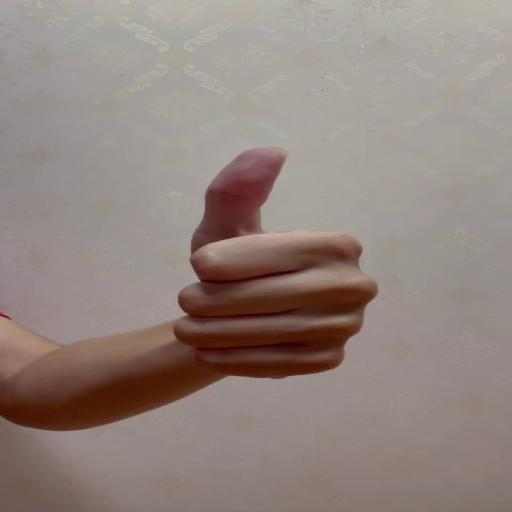thumbs_up: (169, 143, 381, 378)
